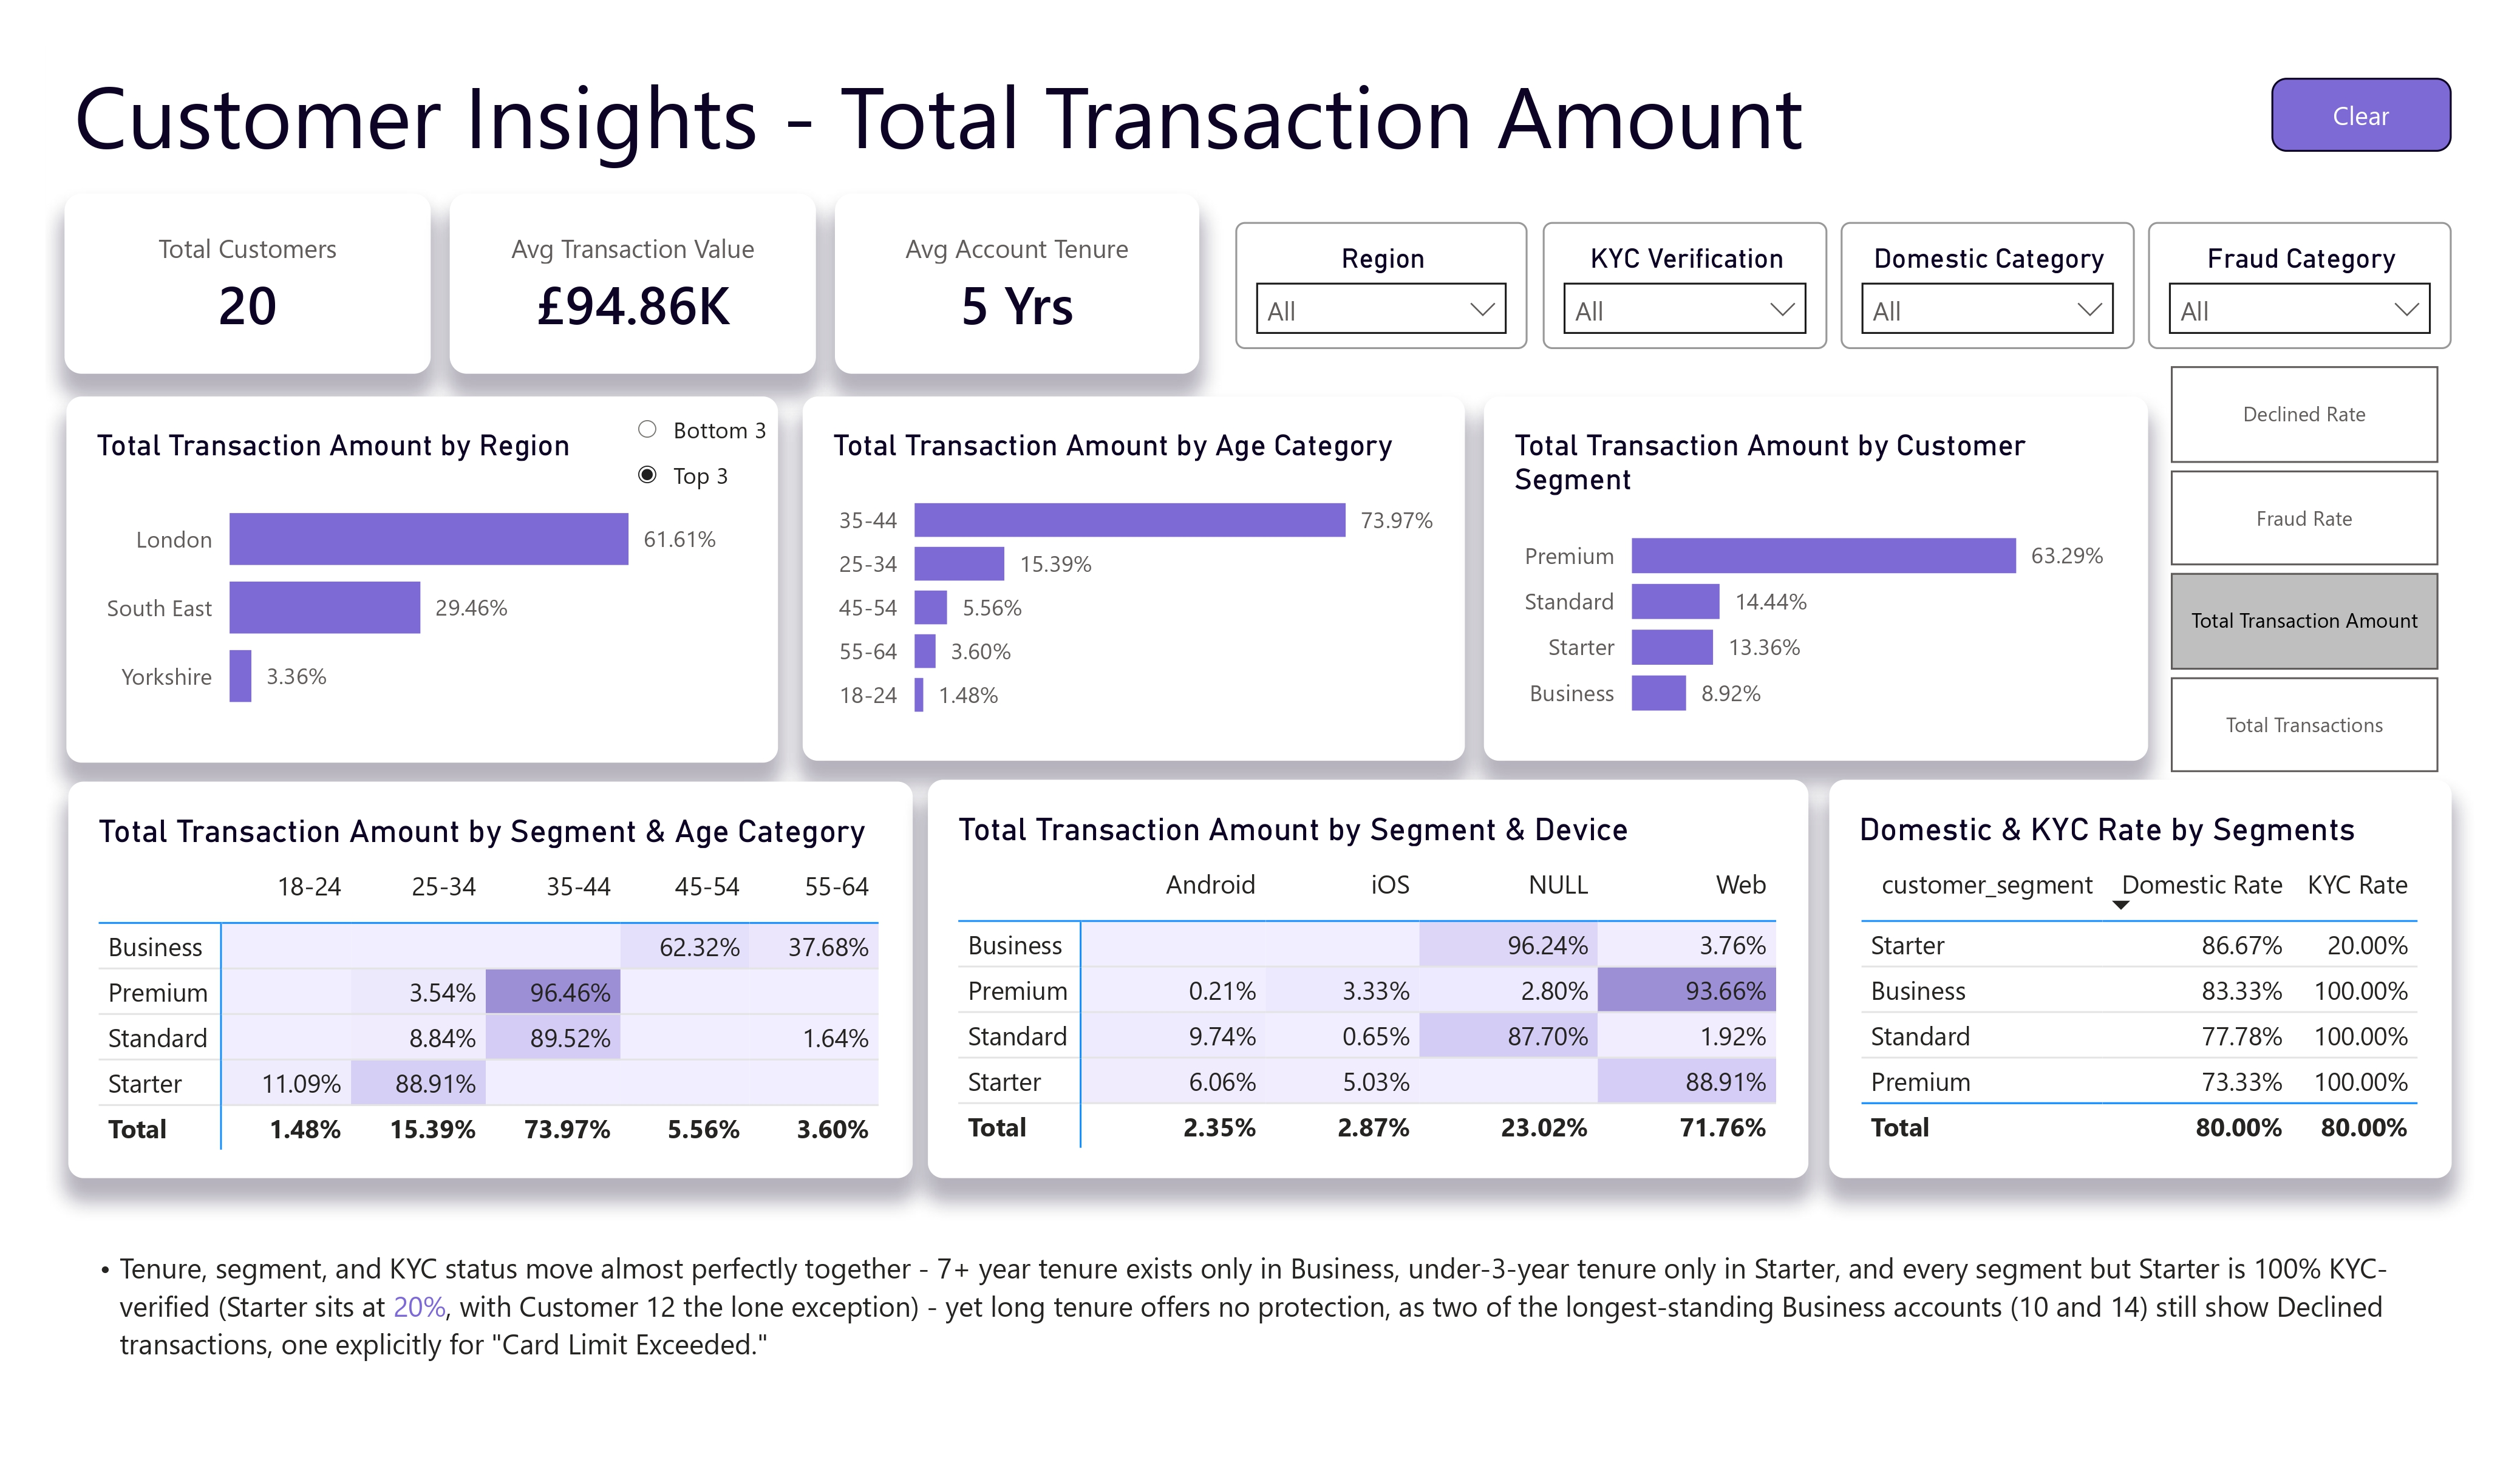

Layout of this report page (visuals, bound fields, positions):
{"tool":"powerbi","page":{"name":"Customer Insights","canvas":[1280,720],"ordinal":2},"visuals":[{"type":"textbox","box":[10.1,0,1142.2,66.5],"z":0},{"type":"cardVisual","fields":{"Data":["Measure table.Total Customers"]},"box":[10.3,77.9,192.5,95.5],"z":1000},{"type":"cardVisual","fields":{"Data":["Measure table.Avg Transaction Value"]},"box":[213.1,77.9,192.5,95.5],"z":2000},{"type":"cardVisual","fields":{"Data":["Measure table.Avg Account Tenure"]},"box":[415.8,77.9,192.5,95.5],"z":3000},{"type":"slicer","fields":{"Values":["Parameter.Measure Parameter"]},"box":[1094.5,167.3,185.1,217.5],"z":4000},{"type":"clusteredBarChart","fields":{"Category":["zephyr.region"],"Y":["Measure table.Measure"]},"box":[11.4,185,374.6,193.2],"z":5000},{"type":"slicer","fields":{"Values":["TopBottom Parameter.Selection"]},"box":[297.8,185.1,101.2,59.3],"z":6000},{"type":"clusteredBarChart","fields":{"Category":["zephyr.age_band"],"Y":["Measure table.Measure"]},"box":[399.4,184.9,348.2,192.5],"z":7000},{"type":"clusteredBarChart","fields":{"Category":["zephyr.customer_segment"],"Y":["Measure table.Measure"]},"box":[758,184.9,349.7,192.5],"z":8000},{"type":"pivotTable","fields":{"Rows":["zephyr.customer_segment"],"Values":["Measure table.Table Measure"],"Columns":["zephyr.age_band"]},"box":[11.6,388,445.2,208.7],"z":9000},{"type":"pivotTable","fields":{"Rows":["zephyr.customer_segment"],"Columns":["zephyr.device_type"],"Values":["Measure table.Table Measure"]},"box":[465.4,387.3,464.1,209.6],"z":10000},{"type":"tableEx","title":"Domestic & KYC Rate by Segments","fields":{"Values":["zephyr.customer_segment","Measure table.Domestic Rate","Measure table.KYC Rate"]},"box":[939.6,387.3,328.2,209.6],"z":11000},{"type":"slicer","title":"Region","fields":{"Values":["zephyr.region"]},"box":[627.4,92.6,154,67.6],"z":12000},{"type":"slicer","title":"KYC Verification","fields":{"Values":["zephyr.KYC Verified Category"]},"box":[789.1,92.6,149.9,67.6],"z":13000},{"type":"slicer","title":"Domestic Category","fields":{"Values":["zephyr.Domestic"]},"box":[946.3,92.6,154.3,67.6],"z":14000},{"type":"slicer","title":"Fraud Category","fields":{"Values":["zephyr.Fraud Category"]},"box":[1107.9,92.6,160.2,67.6],"z":15000},{"type":"actionButton","box":[1172.5,17.3,95.4,39],"z":16000},{"type":"textbox","box":[11.6,611.6,1256.4,108.4],"z":16001}]}

Visuals, with their boxes on the page's 1280x720 design canvas (x1, y1, x2, y2). These are canvas units, not pixel positions in the 2520x1457 screenshot, which may show the page scaled, cropped or inside an application window:
textbox: <bbox>10, 0, 1152, 66</bbox>
cardVisual - Measure table.Total Customers: <bbox>10, 78, 203, 173</bbox>
cardVisual - Measure table.Avg Transaction Value: <bbox>213, 78, 406, 173</bbox>
cardVisual - Measure table.Avg Account Tenure: <bbox>416, 78, 608, 173</bbox>
slicer - Parameter.Measure Parameter: <bbox>1094, 167, 1280, 385</bbox>
clusteredBarChart - zephyr.region x Measure table.Measure: <bbox>11, 185, 386, 378</bbox>
slicer - TopBottom Parameter.Selection: <bbox>298, 185, 399, 244</bbox>
clusteredBarChart - zephyr.age_band x Measure table.Measure: <bbox>399, 185, 748, 377</bbox>
clusteredBarChart - zephyr.customer_segment x Measure table.Measure: <bbox>758, 185, 1108, 377</bbox>
pivotTable - zephyr.customer_segment x Measure table.Table Measure: <bbox>12, 388, 457, 597</bbox>
pivotTable - zephyr.customer_segment x zephyr.device_type: <bbox>465, 387, 930, 597</bbox>
"Domestic & KYC Rate by Segments" tableEx: <bbox>940, 387, 1268, 597</bbox>
"Region" slicer: <bbox>627, 93, 781, 160</bbox>
"KYC Verification" slicer: <bbox>789, 93, 939, 160</bbox>
"Domestic Category" slicer: <bbox>946, 93, 1101, 160</bbox>
"Fraud Category" slicer: <bbox>1108, 93, 1268, 160</bbox>
actionButton: <bbox>1172, 17, 1268, 56</bbox>
textbox: <bbox>12, 612, 1268, 720</bbox>
